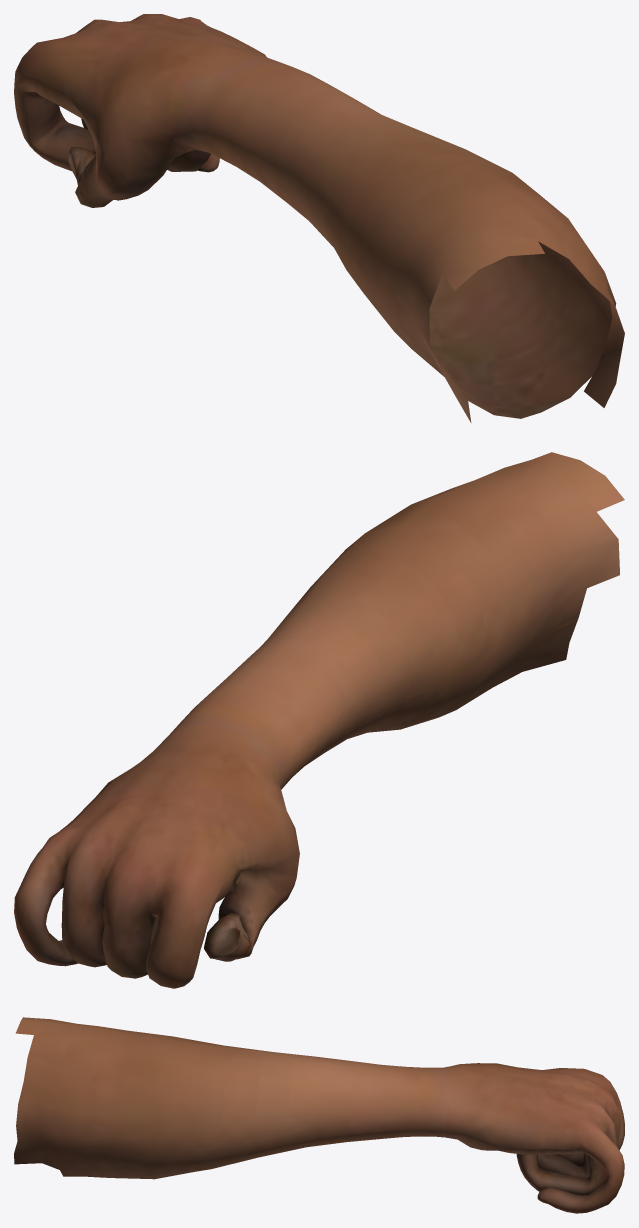
The model's file is vm_fist.glb.
3 renders of one model, top to bottom at view 1: azimuth 30°, elevation 25°; view 2: azimuth 150°, elevation 25°; view 3: azimuth 270°, elevation 25°, orthographic. The views are drawn at different scales.
Visible parts, largest first — view 1: vm_fist; view 2: vm_fist; view 3: vm_fist.
Boxes of the visible parts, <box> form: vm_fist: <box>14,14,624,422</box>; vm_fist: <box>14,452,624,988</box>; vm_fist: <box>14,1017,624,1213</box>.
Bounding box in the file's own units: 0.1163 × 0.1273 × 0.4432.
1 material, 1 textured.
